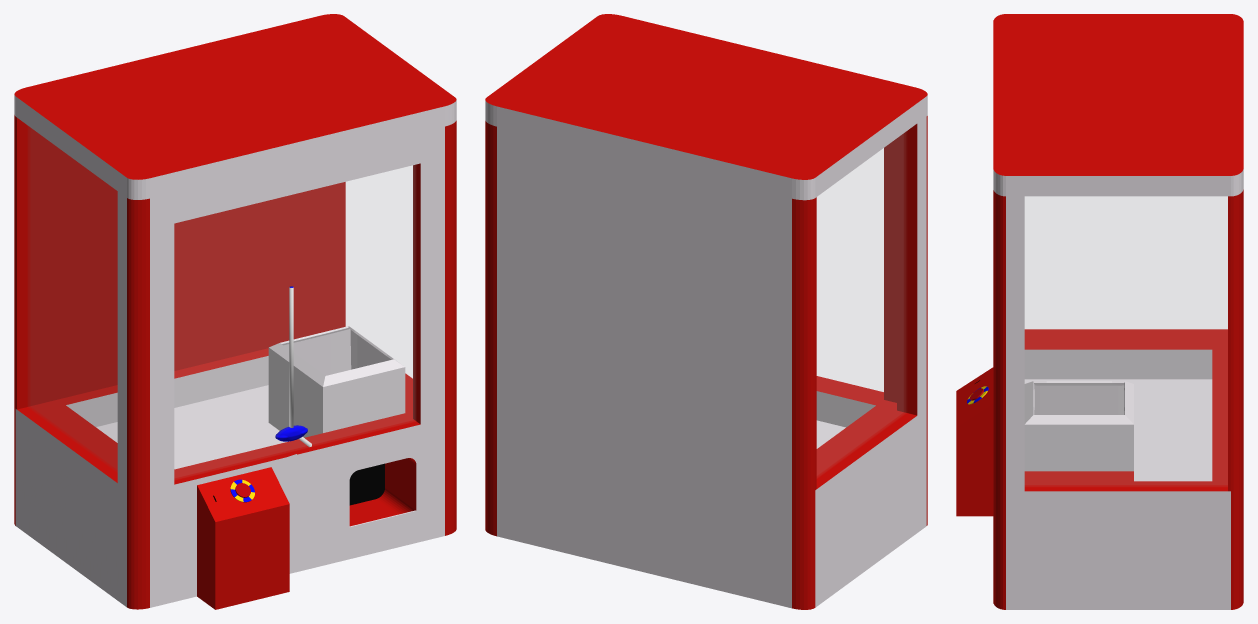
Rendered from pince_embout.fbx.
The picture shows the model from 3 angles, left to right: view 1: azimuth 30°, elevation 25°; view 2: azimuth 150°, elevation 25°; view 3: azimuth 270°, elevation 25°; orthographic projection.
Visible parts, largest first — view 1: Machine, Pince; view 2: Machine; view 3: Machine.
Part boxes in pixels (x1,y1,x2,y2): Machine: (14, 14, 456, 609); Pince: (275, 286, 307, 441); Machine: (485, 14, 927, 609); Machine: (956, 14, 1243, 609).
Size of the model in its own units: 200 by 250 by 150.
